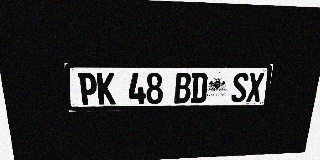4: (128, 73, 146, 104)
8: (146, 73, 163, 104)
B: (174, 73, 191, 103)
D: (190, 73, 208, 103)
K: (97, 73, 115, 105)
P: (78, 73, 98, 105)
S: (231, 73, 249, 102)
X: (246, 73, 264, 102)
